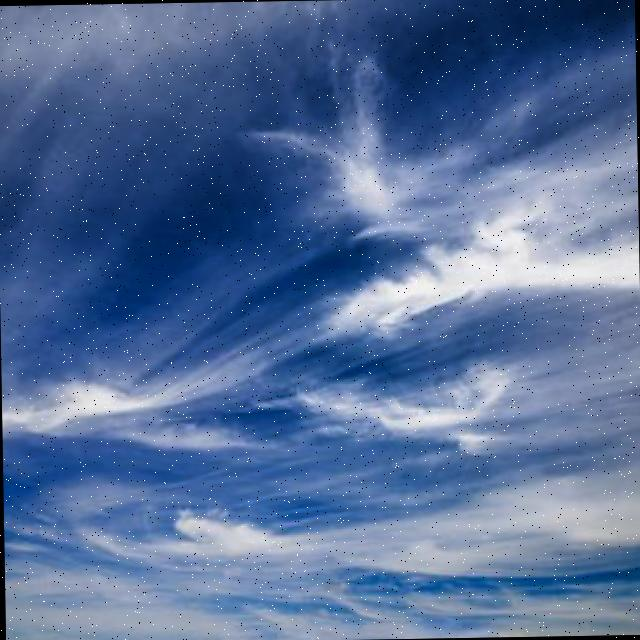Ci: (1, 1, 640, 565)
